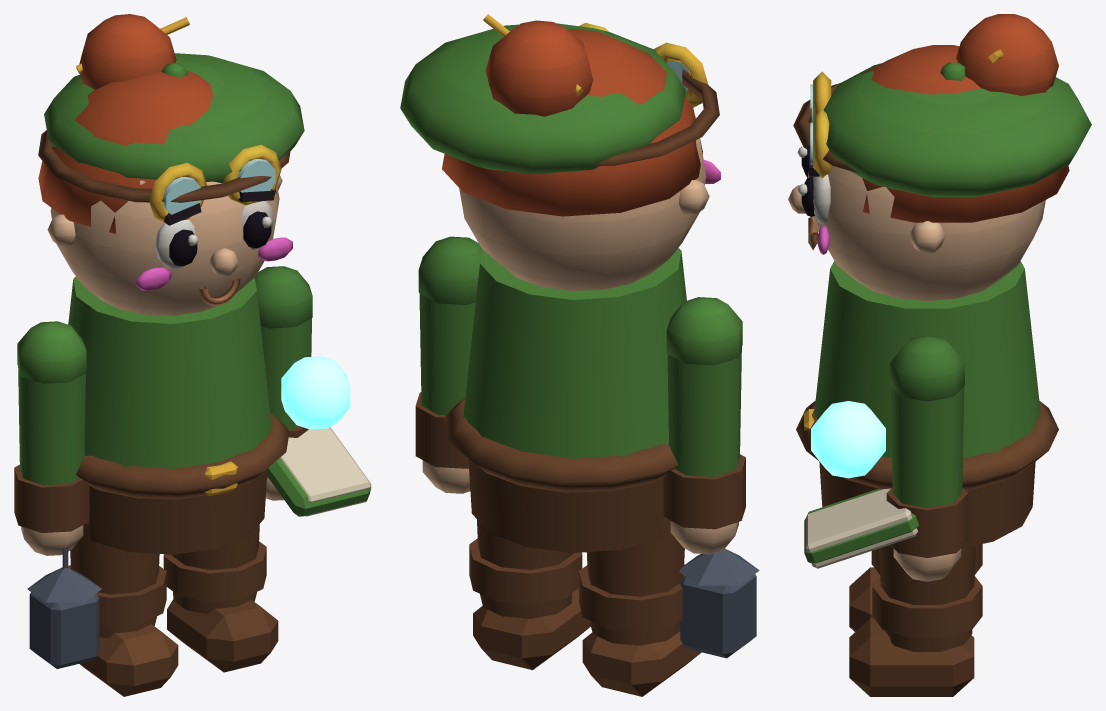
Rendered from hero_ottilie.glb.
The picture shows the model from 3 angles, left to right: view 1: azimuth 30°, elevation 25°; view 2: azimuth 150°, elevation 25°; view 3: azimuth 270°, elevation 25°; orthographic projection. The views are drawn at different scales.
Parts seen in each view (by area): view 1: body_t0_palette, arml_t0_palette, armr_t0_palette, legr_t0_palette, legl_t0_palette, armr_t0_rune; view 2: body_t0_palette, arml_t0_palette, legl_t0_palette, legr_t0_palette, armr_t0_palette; view 3: body_t0_palette, armr_t0_palette, legr_t0_palette, armr_t0_rune, legl_t0_palette.
Part boxes in pixels (x1=…): body_t0_palette: x1=38, y1=14, x2=304, y2=554; arml_t0_palette: x1=14, y1=321, x2=101, y2=668; armr_t0_palette: x1=254, y1=266, x2=371, y2=516; legr_t0_palette: x1=163, y1=524, x2=278, y2=672; legl_t0_palette: x1=68, y1=522, x2=178, y2=696; armr_t0_rune: x1=281, y1=356, x2=350, y2=429; body_t0_palette: x1=400, y1=14, x2=720, y2=552; arml_t0_palette: x1=663, y1=297, x2=759, y2=658; legl_t0_palette: x1=579, y1=518, x2=701, y2=696; legr_t0_palette: x1=469, y1=519, x2=590, y2=670; armr_t0_palette: x1=415, y1=236, x2=482, y2=493; body_t0_palette: x1=788, y1=14, x2=1091, y2=547; armr_t0_palette: x1=804, y1=335, x2=968, y2=581; legr_t0_palette: x1=849, y1=545, x2=982, y2=696; armr_t0_rune: x1=811, y1=401, x2=885, y2=478; legl_t0_palette: x1=849, y1=544, x2=982, y2=631.
Size of the model in its own units: 0.274 by 0.54 by 0.231.
